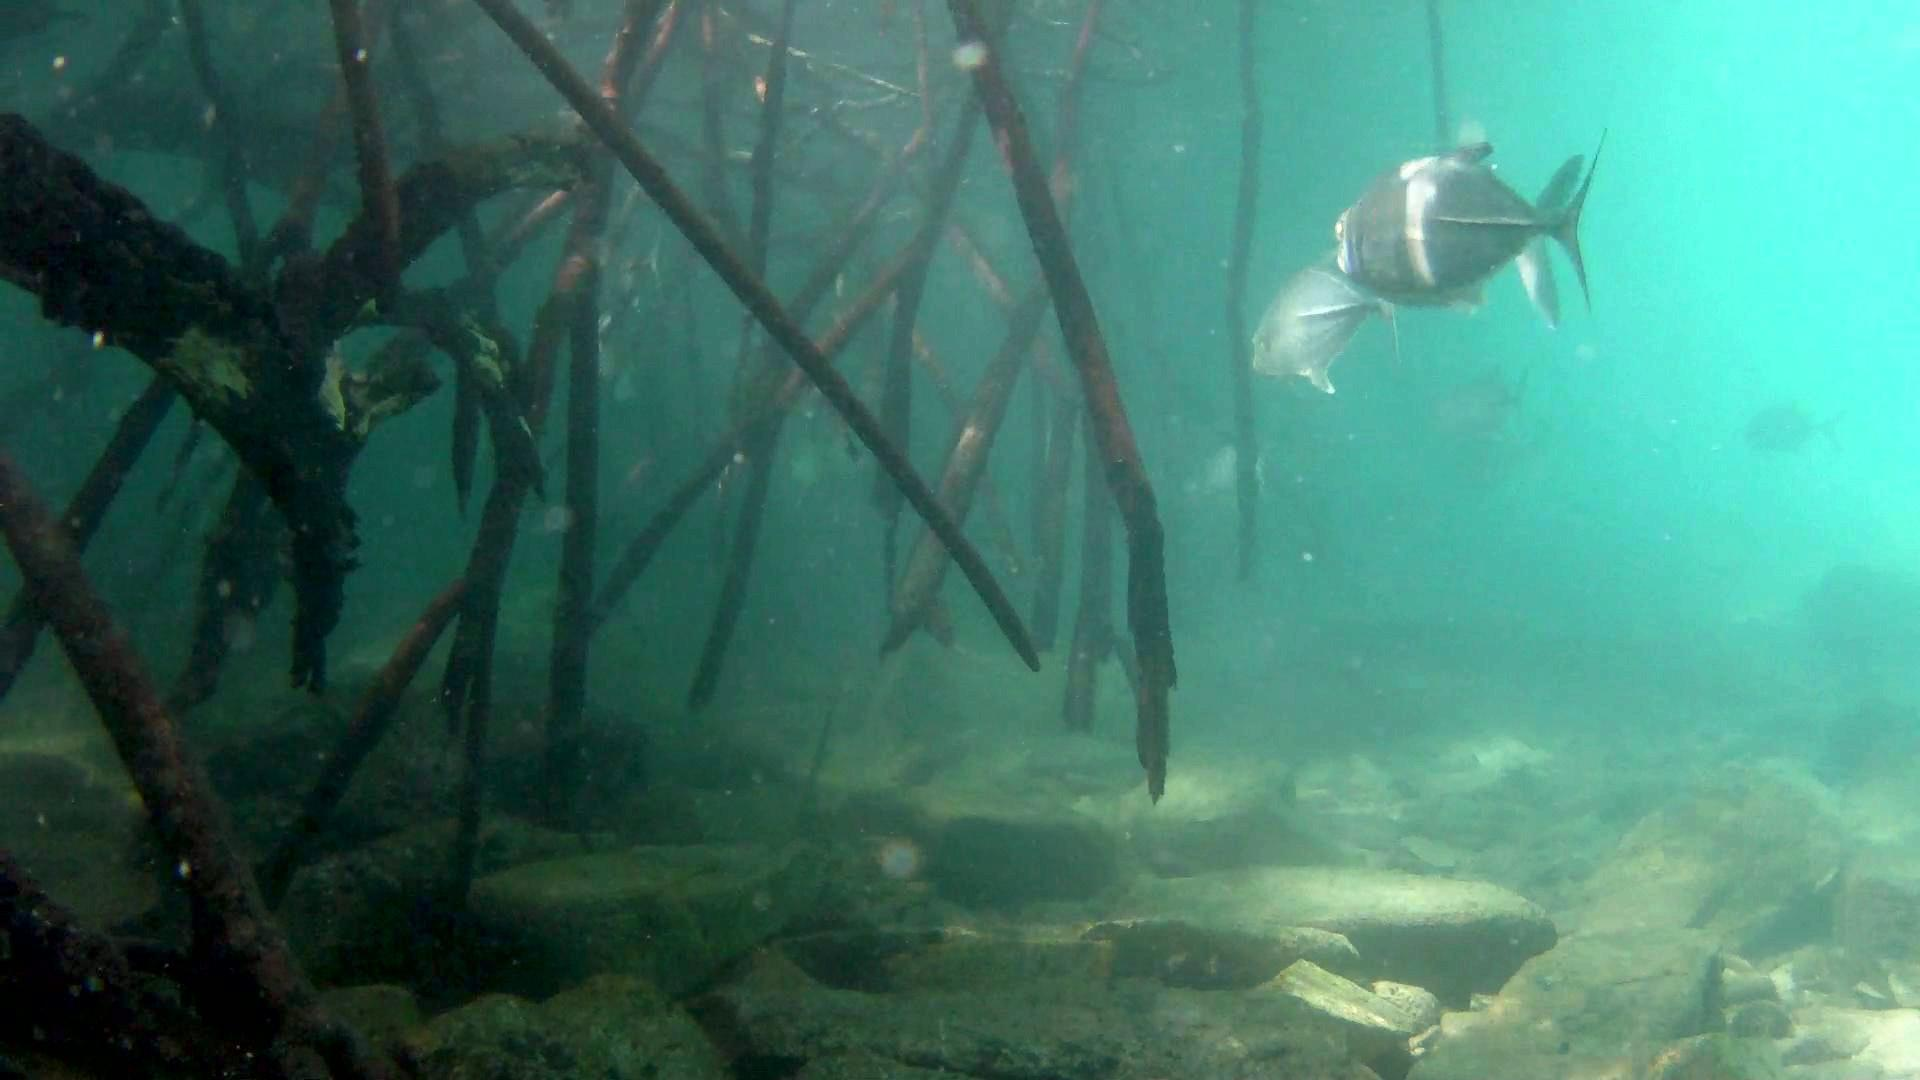caranx: (1325, 113, 1618, 315)
